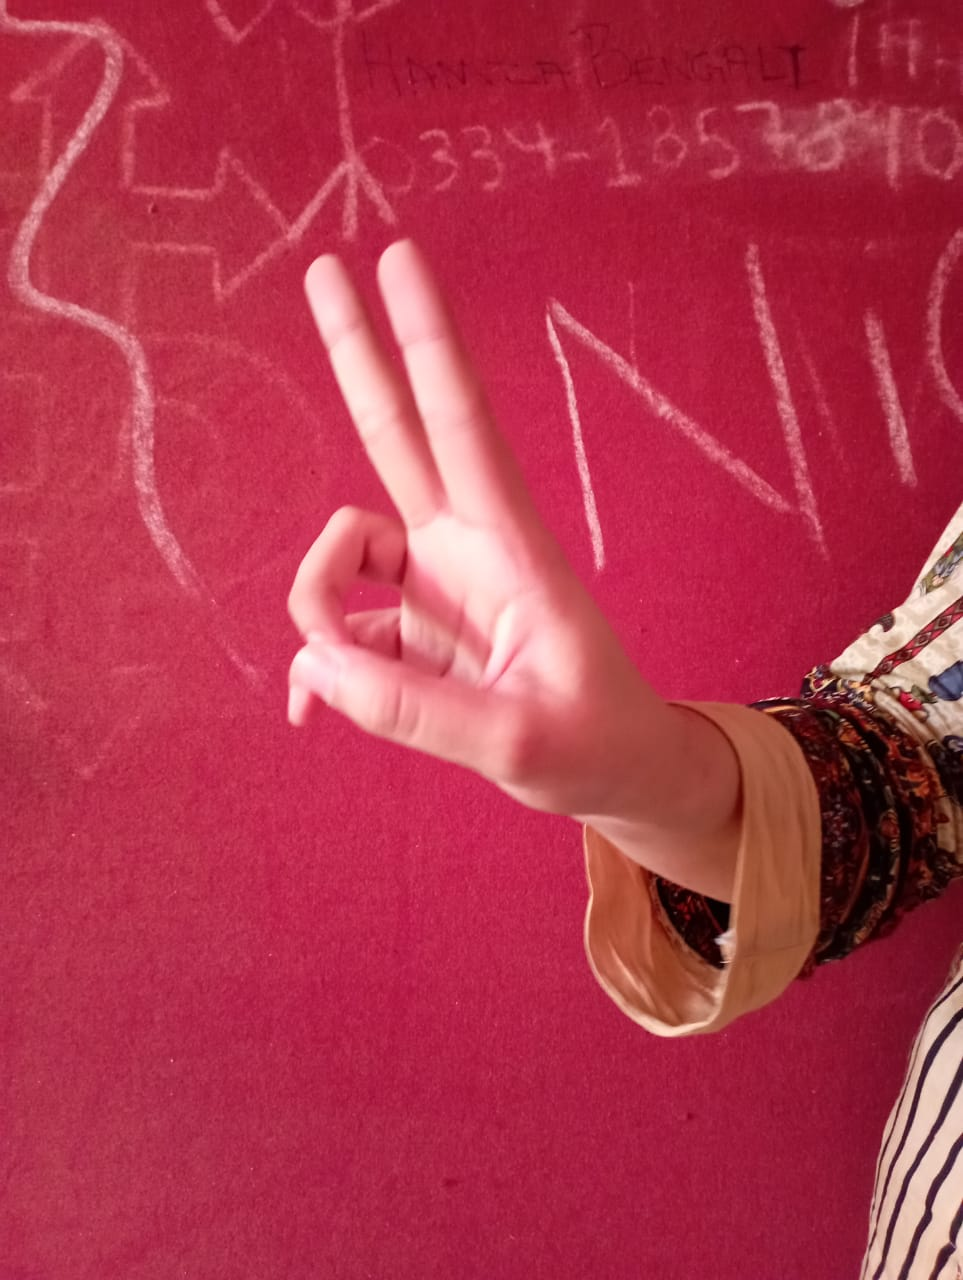Peace: (270, 227, 627, 810)
